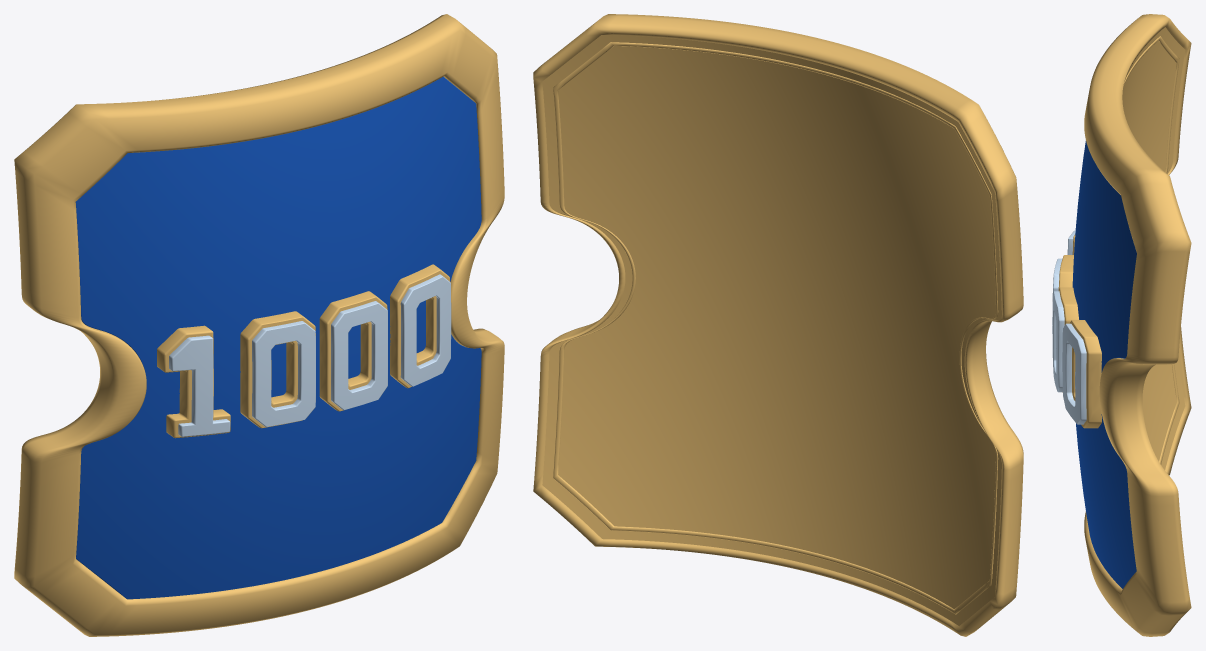
File: experience-1000.glb
3 renders of one model, left to right at view 1: azimuth 30°, elevation 25°; view 2: azimuth 150°, elevation 25°; view 3: azimuth 270°, elevation 25°, orthographic. The views are drawn at different scales.
Parts seen in each view (by area): view 1: acrylic_ticket_inset_conforming_005, metal_ticket_perimeter_005, ivory_number_1000_1_0_conforming, ivory_number_1000_2_0_conforming, ivory_number_1000_3_0_conforming, ivory_number_1000_0_0_conforming, metal_number_1000_1_0_conforming, metal_number_1000_2_0_conforming, metal_number_1000_3_0_conforming, metal_number_1000_0_0_conforming; view 2: satin_ticket_reverse_conforming_005, metal_ticket_perimeter_005, satin_rear_border_005; view 3: metal_ticket_perimeter_005, acrylic_ticket_inset_conforming_005, satin_ticket_reverse_conforming_005, ivory_number_1000_3_0_conforming, metal_number_1000_3_0_conforming, ivory_number_1000_2_0_conforming, satin_rear_border_005, metal_number_1000_2_0_conforming, metal_number_1000_1_0_conforming, ivory_number_1000_1_0_conforming.
Part boxes in pixels (bbox=[...]): acrylic_ticket_inset_conforming_005: bbox=[75, 76, 481, 599]; metal_ticket_perimeter_005: bbox=[14, 14, 504, 636]; ivory_number_1000_1_0_conforming: bbox=[252, 321, 315, 426]; ivory_number_1000_2_0_conforming: bbox=[331, 301, 387, 409]; ivory_number_1000_3_0_conforming: bbox=[400, 274, 451, 386]; ivory_number_1000_0_0_conforming: bbox=[169, 335, 230, 436]; metal_number_1000_1_0_conforming: bbox=[240, 311, 315, 428]; metal_number_1000_2_0_conforming: bbox=[319, 291, 387, 411]; metal_number_1000_3_0_conforming: bbox=[390, 264, 449, 388]; metal_number_1000_0_0_conforming: bbox=[157, 325, 230, 438]; satin_ticket_reverse_conforming_005: bbox=[542, 35, 1001, 625]; metal_ticket_perimeter_005: bbox=[533, 14, 1023, 636]; satin_rear_border_005: bbox=[553, 42, 998, 614]; metal_ticket_perimeter_005: bbox=[1084, 14, 1191, 636]; acrylic_ticket_inset_conforming_005: bbox=[1072, 141, 1136, 588]; satin_ticket_reverse_conforming_005: bbox=[1122, 27, 1185, 469]; ivory_number_1000_3_0_conforming: bbox=[1062, 323, 1086, 424]; metal_number_1000_3_0_conforming: bbox=[1070, 320, 1101, 428]; ivory_number_1000_2_0_conforming: bbox=[1052, 291, 1064, 392]; satin_rear_border_005: bbox=[1123, 36, 1179, 464]; metal_number_1000_2_0_conforming: bbox=[1059, 287, 1078, 392]; metal_number_1000_1_0_conforming: bbox=[1058, 255, 1073, 290]; ivory_number_1000_1_0_conforming: bbox=[1052, 258, 1062, 324].
Bounding box in the file's own units: 1.88 × 2 × 0.5442.
